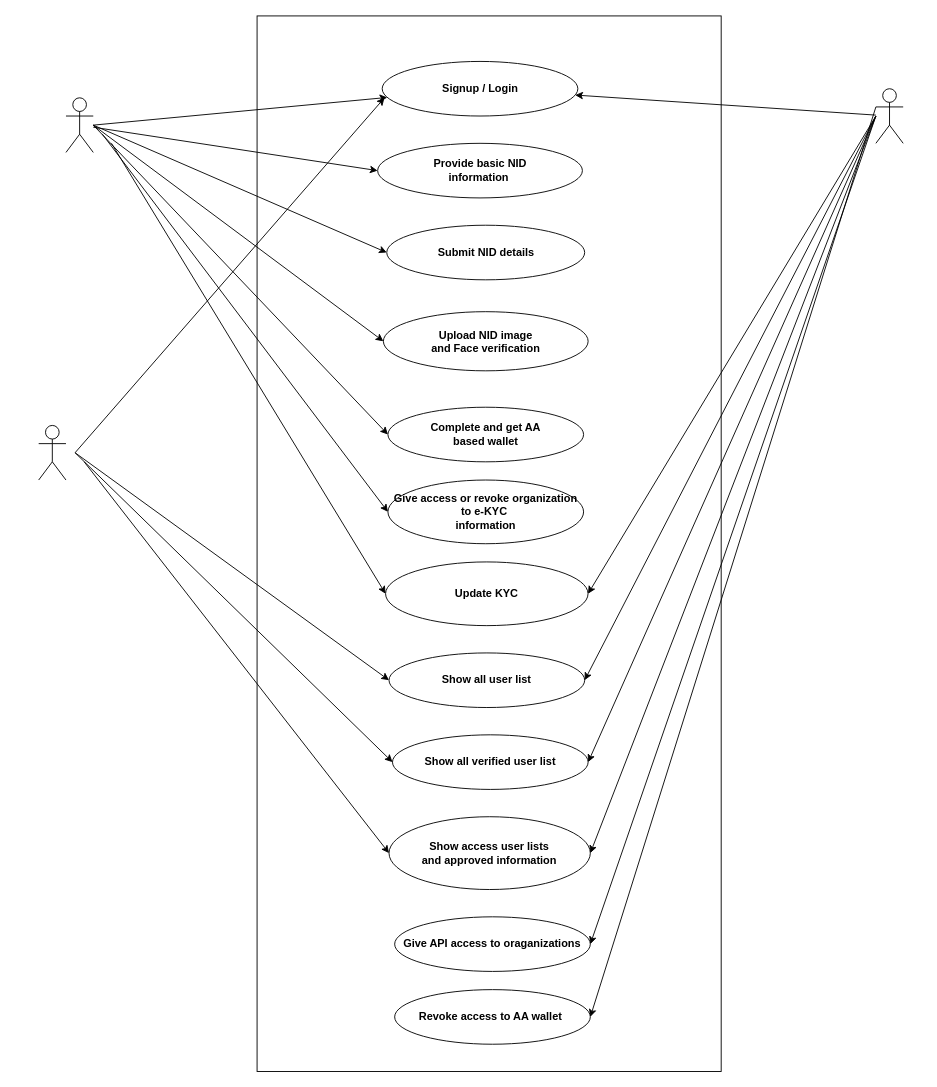
Some shapes in this 937 by 1087 pixel diagram are drawn without their labels. Here are the shapes that lost their labels. From the top down, the centre of each, then its label:
the point at 79,124: Citizens
the point at 889,115: Government
the point at 52,452: Oragnizations
